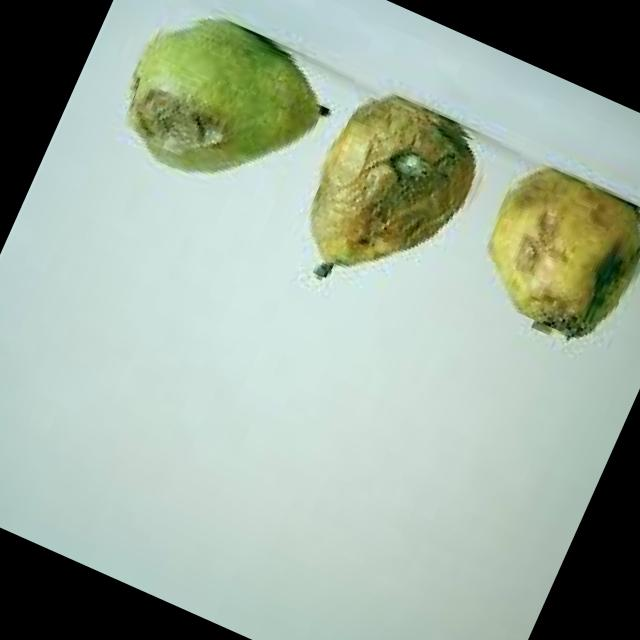Organic: (286, 89, 503, 322), (110, 3, 333, 218), (466, 168, 640, 350)
